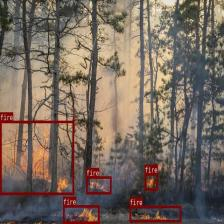fire: (0, 120, 74, 195), (129, 206, 181, 222), (63, 205, 99, 223), (86, 176, 111, 194), (145, 173, 158, 190)
